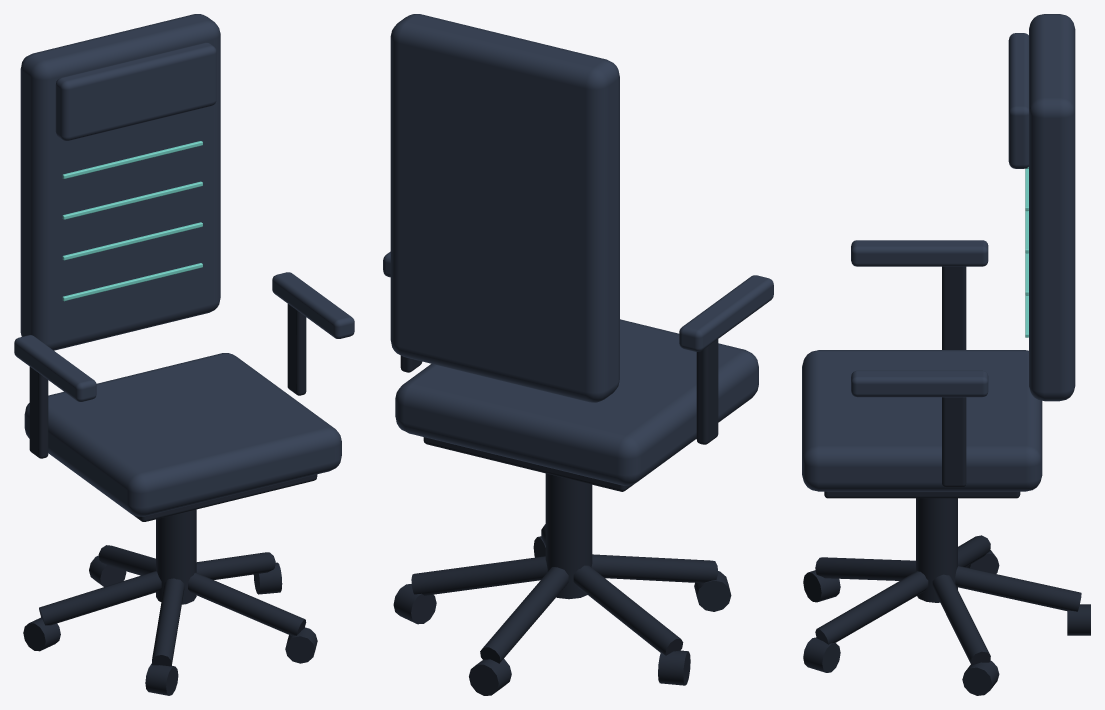
Rendered from chair.gaming.padded.glb.
3 views of the same model, side by side, from view 1: azimuth 30°, elevation 25°; view 2: azimuth 150°, elevation 25°; view 3: azimuth 270°, elevation 25° (orthographic). The views are drawn at different scales.
Parts seen in each view (by area): view 1: upholstery, frame, accent; view 2: upholstery, frame; view 3: upholstery, frame, accent.
Part boxes in pixels (x1=…): upholstery: x1=14, y1=14, x2=354, y2=516; frame: x1=23, y1=304, x2=317, y2=695; accent: x1=62, y1=141, x2=202, y2=301; upholstery: x1=383, y1=14, x2=773, y2=485; frame: x1=393, y1=339, x2=731, y2=695; upholstery: x1=802, y1=14, x2=1075, y2=491; frame: x1=803, y1=266, x2=1090, y2=695; accent: x1=1025, y1=167, x2=1028, y2=337.
Size of the model in its own units: 0.68 by 1.3 by 0.589.
